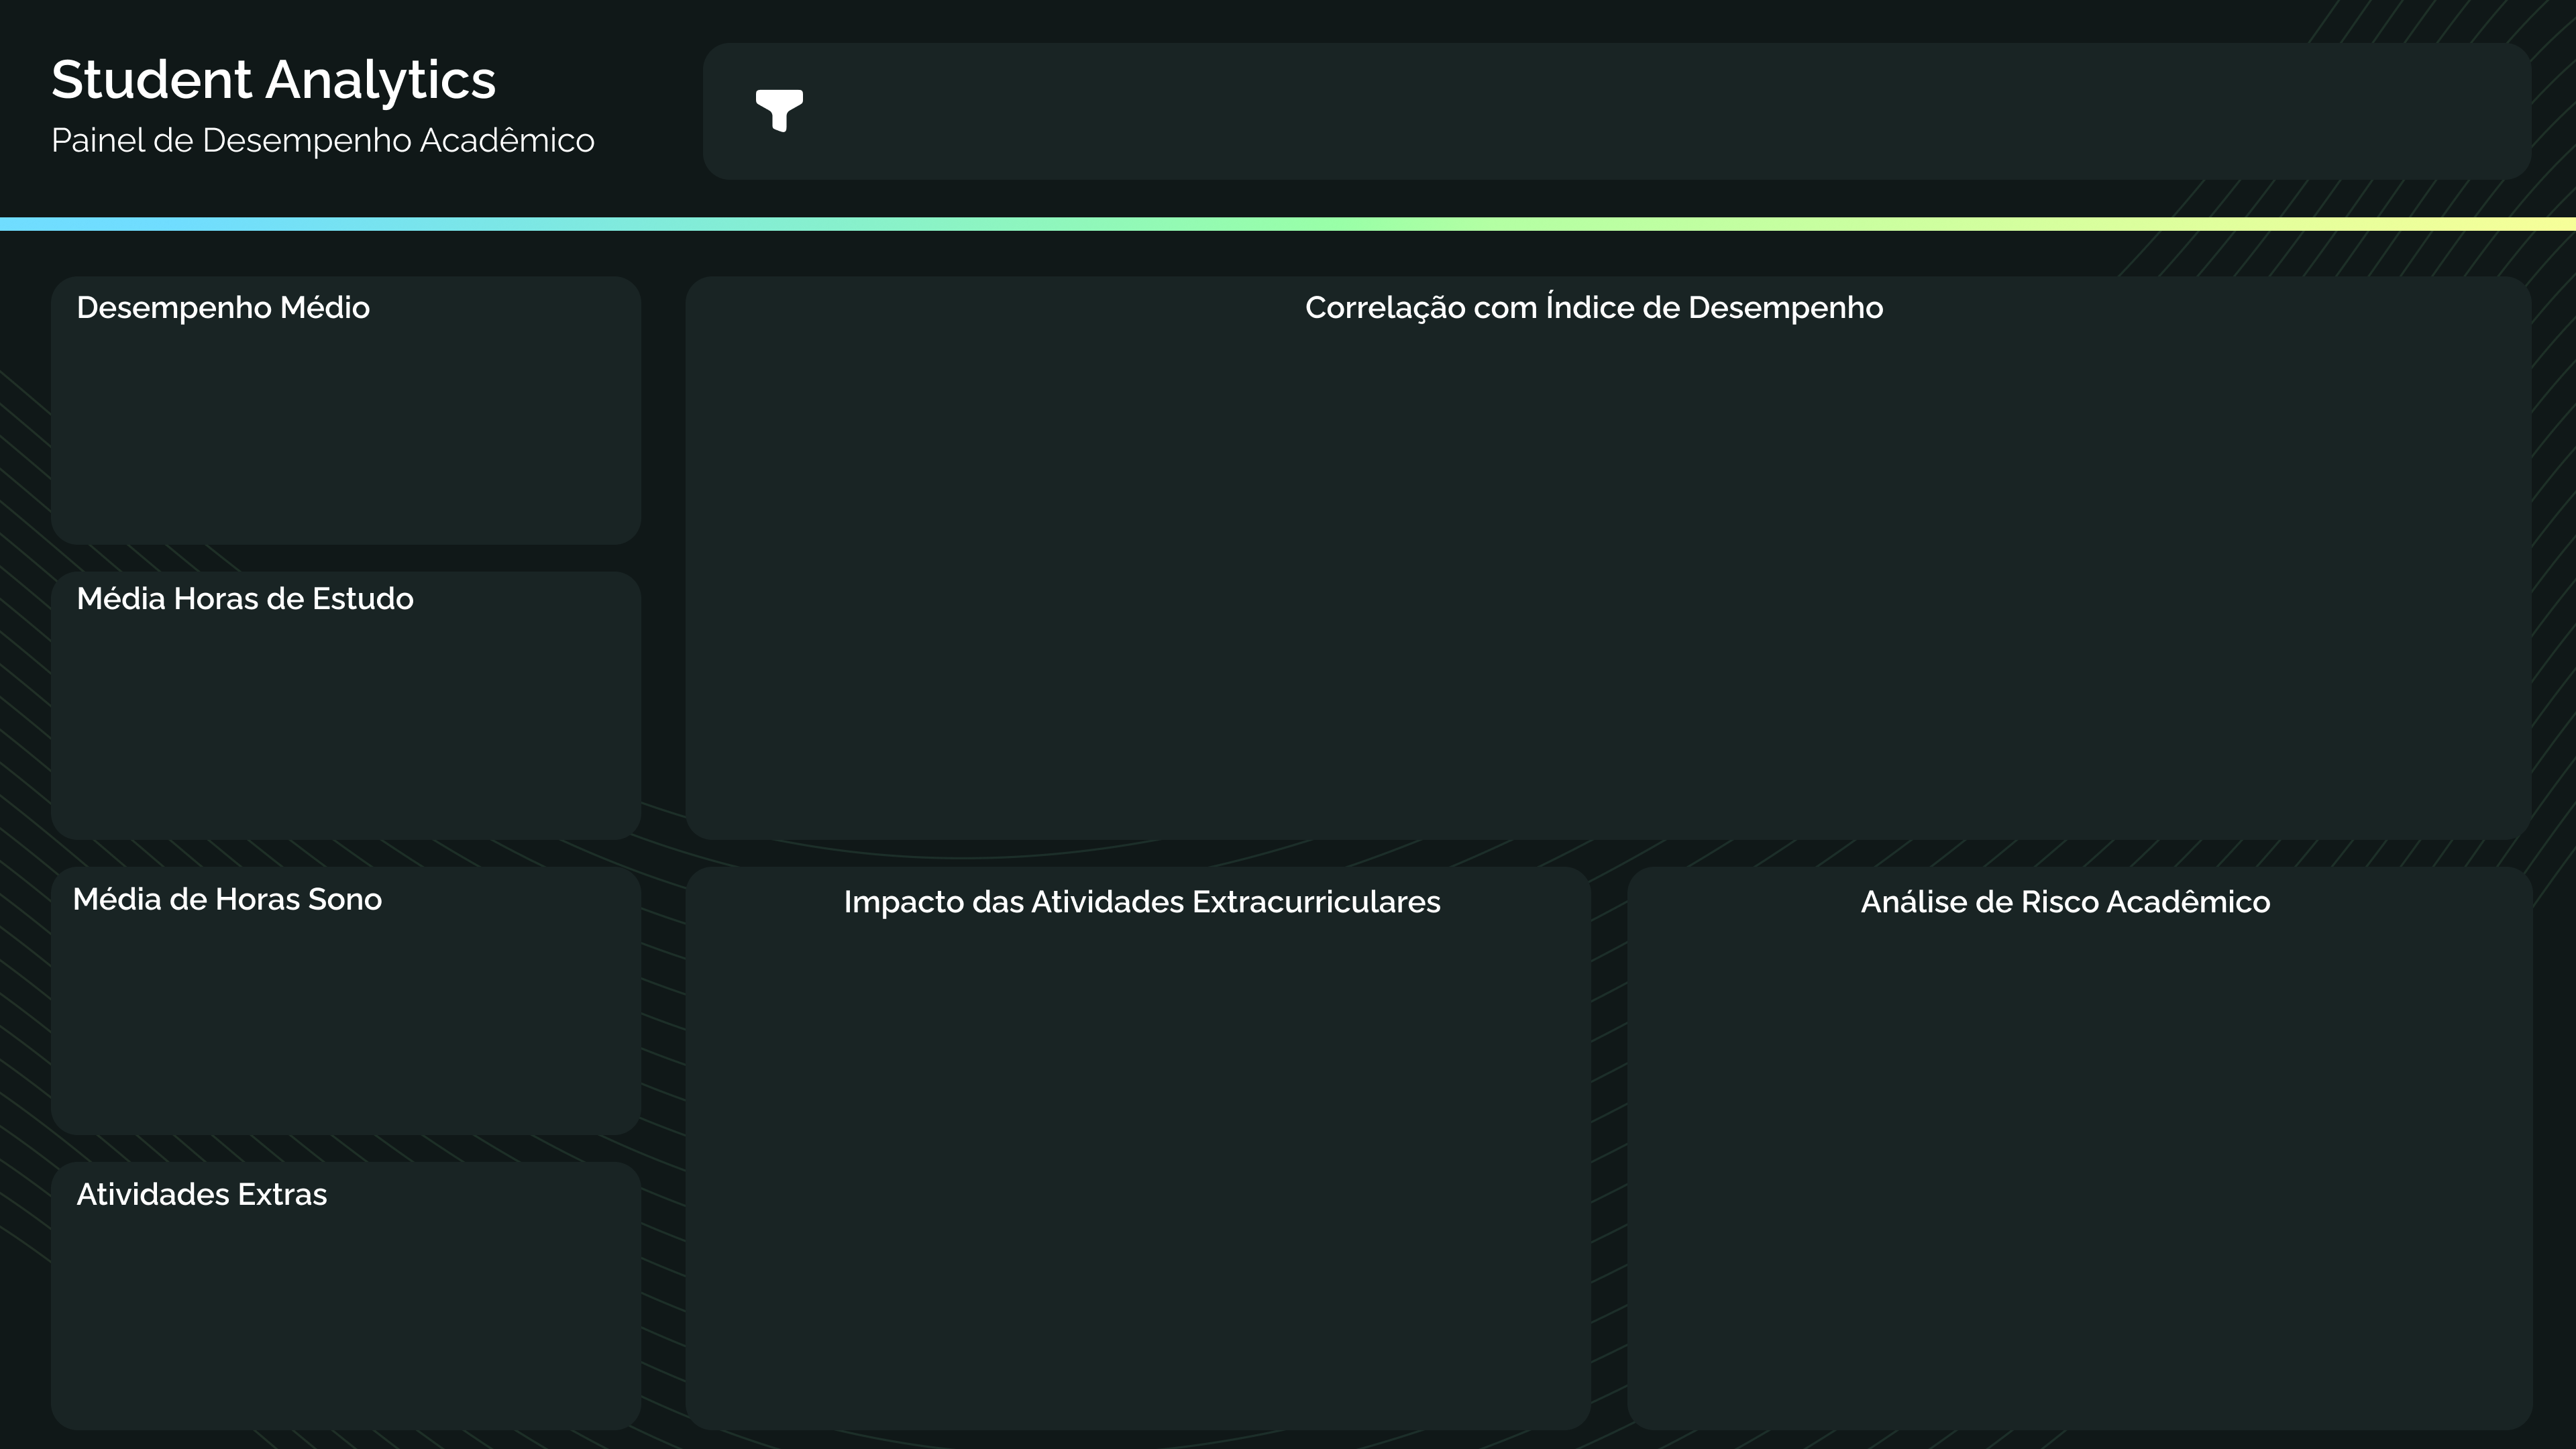

What the dashboard file says about the page in this screenshot:
{"tool":"powerbi","page":{"name":"Student Analytics","canvas":[1280,720],"ordinal":1},"visuals":[{"type":"card","fields":{"Values":["Medidas.DesempenhoMedio"]},"box":[33.1,161.3,121,90.7],"z":0},{"type":"card","fields":{"Values":["Avg(StudentPerformance.Horas de Estudo)"]},"box":[33.1,303.8,121,97.9],"z":1000},{"type":"card","fields":{"Values":["Medidas.MediaHorasSono"]},"box":[33.1,453.6,121,102.2],"z":2000},{"type":"card","fields":{"Values":["Medidas.%AlunosAtivExtra"]},"box":[33.1,600.5,121,102.2],"z":3000},{"type":"barChart","title":"Correlação Com Índice de Desempenho","fields":{"Y":["Fatores.CorrelacaoComIndice"],"Category":["Fatores.Fator"],"Series":["Fatores.CategoriaCorrelacao"]},"box":[344.2,161.3,914.4,253.4],"z":4000},{"type":"clusteredColumnChart","title":"Impacto das Atividades Extracurriculares","fields":{"Category":["StudentPerformance.Atividades Extracurriculares"],"Y":["Medidas.DesempenhoMedio","Medidas.MediaHorasEstudo"]},"box":[344.2,453.6,445,249.1],"z":5000},{"type":"donutChart","title":"Análise de Risco Acadêmico","fields":{"Category":["StudentPerformance.CategoriaRisco"],"Y":["Medidas.%AlunosPorRisco"]},"box":[809.3,453.6,449.3,249.1],"z":6000},{"type":"slicer","fields":{"Values":["StudentPerformance.Horas de Estudo"]},"box":[417.6,21.6,221.8,64.8],"z":7000}]}

Visuals, with their boxes in screenshot pixels (x1, y1, x2, y2), scaled from the page's 1280x720 canvas onto the 2576x1449 screenshot:
card - Medidas.DesempenhoMedio: <region>66, 325, 310, 507</region>
card - Avg(StudentPerformance.Horas de Estudo): <region>66, 611, 310, 808</region>
card - Medidas.MediaHorasSono: <region>66, 913, 310, 1118</region>
card - Medidas.%AlunosAtivExtra: <region>66, 1209, 310, 1414</region>
"Correlação Com Índice de Desempenho" barChart: <region>693, 325, 2533, 835</region>
"Impacto das Atividades Extracurriculares" clusteredColumnChart: <region>693, 913, 1589, 1414</region>
"Análise de Risco Acadêmico" donutChart: <region>1629, 913, 2533, 1414</region>
slicer - StudentPerformance.Horas de Estudo: <region>841, 44, 1287, 174</region>
